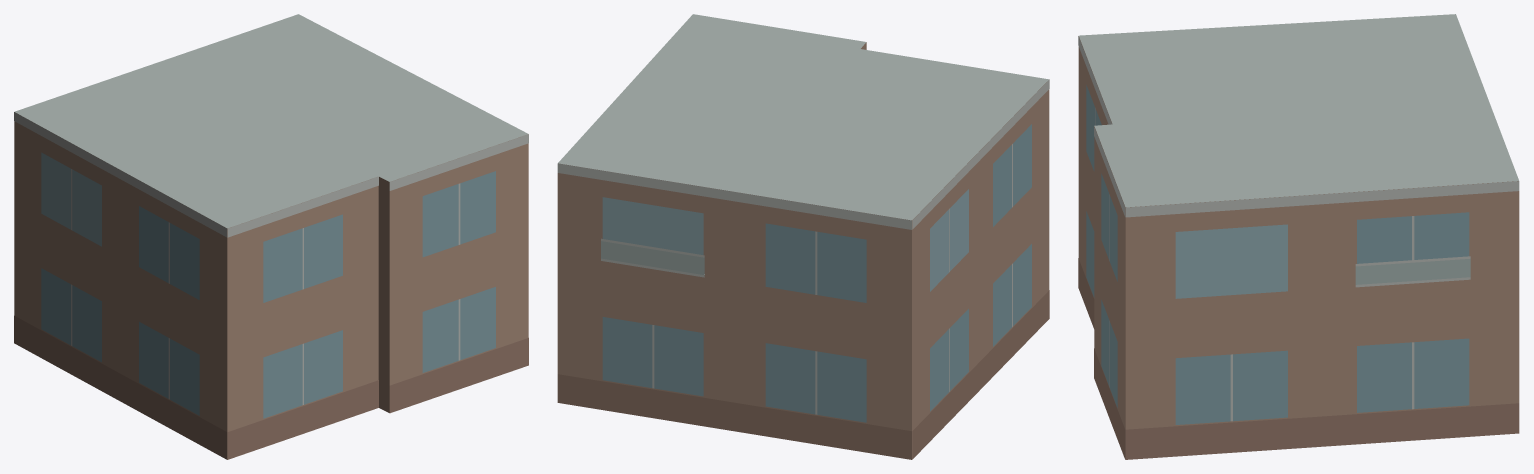
File: survey-upis-32965849.glb
The picture shows the model from 3 angles, left to right: view 1: azimuth 30°, elevation 25°; view 2: azimuth 150°, elevation 25°; view 3: azimuth 270°, elevation 25°; orthographic projection. The views are drawn at different scales.
Visible parts, largest first — view 1: survey-upis-32965849.tmp; view 2: survey-upis-32965849.tmp; view 3: survey-upis-32965849.tmp.
Boxes of the visible parts, bbox=[...] form: survey-upis-32965849.tmp: bbox=[14, 14, 528, 459]; survey-upis-32965849.tmp: bbox=[557, 14, 1049, 459]; survey-upis-32965849.tmp: bbox=[1078, 14, 1519, 459].
Bounding box in the file's own units: 10.03 × 6.1 × 9.66.
